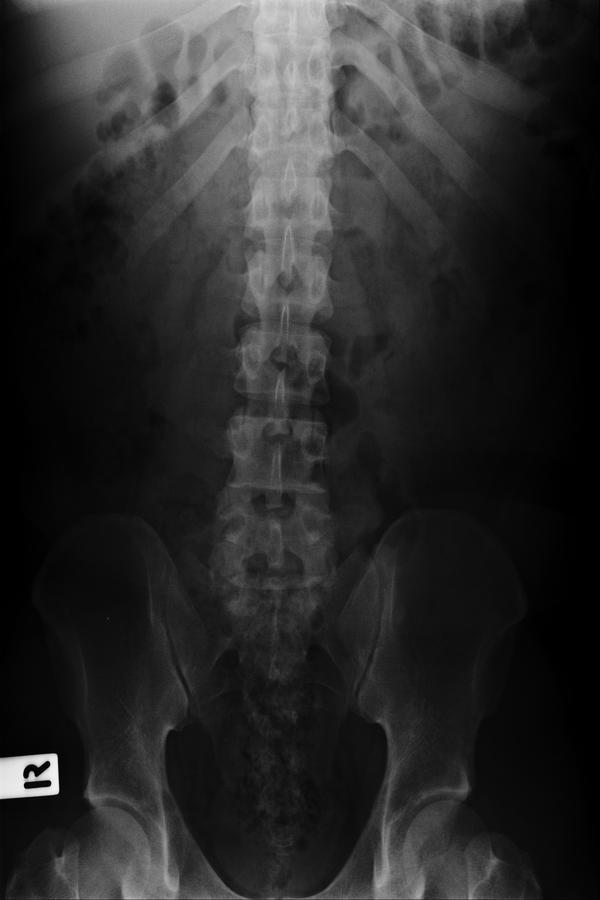lumbar scoliosis: (207, 236, 339, 621)
